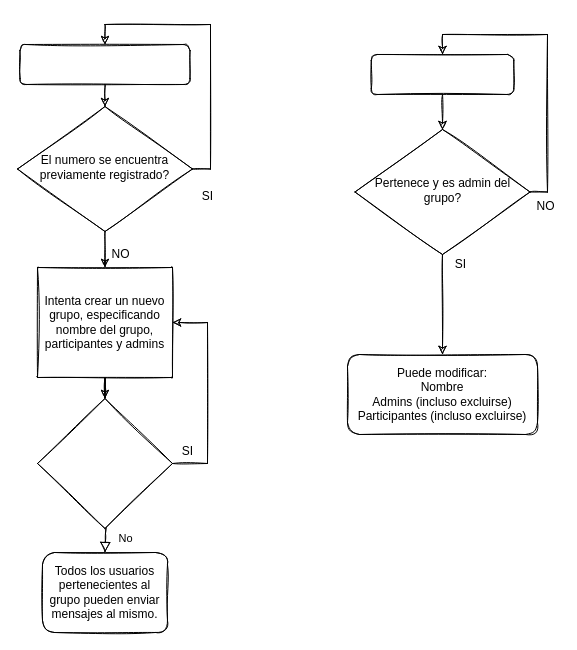
This 577x650 diagram has some shape labels left out. The shapes that lost their labels are listed below. From the top down, each one's box as (x1, y1, x2, y2) in pixels, then its label:
(19, 44, 190, 84): Usuario se intenta registrar con su # de telefono.
(370, 54, 514, 94): Usuario se intenta modificar un grupo
(36, 398, 172, 528): Existe otro grupo con el mismo nombre?
